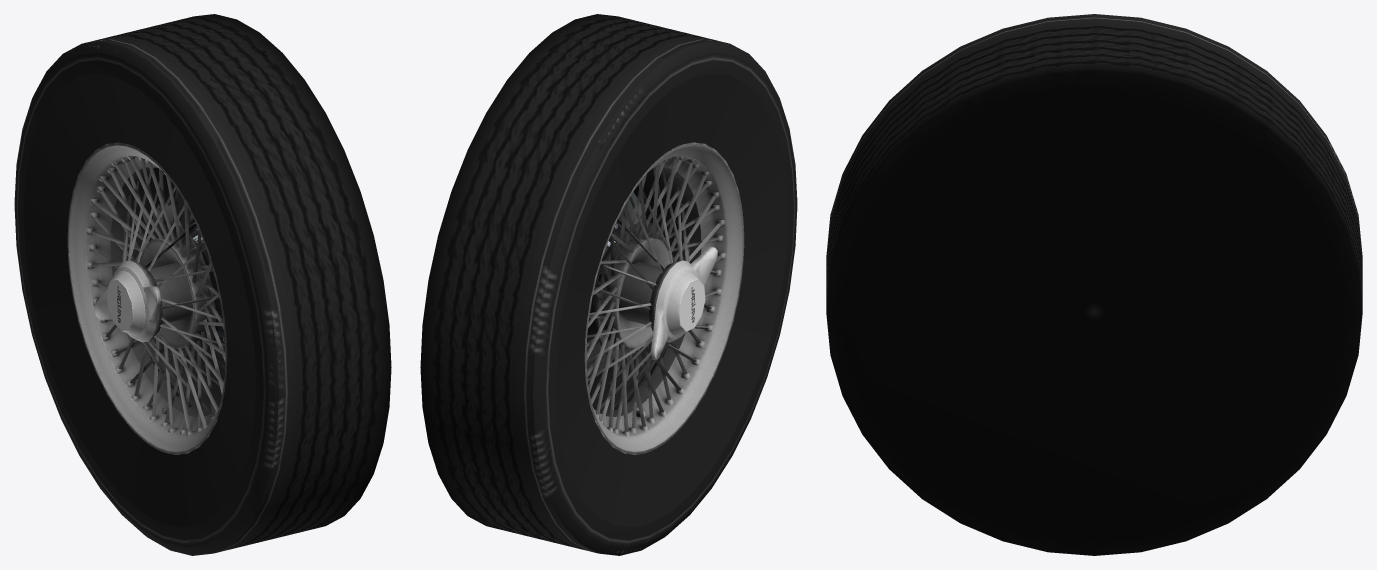
Rendered from jaguar1969.fbx.
3 views of the same model, side by side, from view 1: azimuth 30°, elevation 25°; view 2: azimuth 150°, elevation 25°; view 3: azimuth 270°, elevation 25° (orthographic).
Visible parts, largest first — view 1: Tirerr_garage, Tirerl_garage, Rimrl_garage_vcolor, brake_disk_rl_garage; view 2: Tirerr_garage, Tirerl_garage, Rimrl_garage_vcolor, brake_disk_rl_garage; view 3: Tirerr_garage, Tirerl_garage, Tire_LP_rr_garage, Tire_LP_rl_garage.
Boxes of the visible parts, box(x1,y1,x2,y2) form: Tirerr_garage: box(14, 14, 391, 548); Tirerl_garage: box(14, 44, 391, 555); Rimrl_garage_vcolor: box(67, 142, 227, 454); brake_disk_rl_garage: box(170, 193, 225, 377); Tirerr_garage: box(420, 14, 797, 553); Tirerl_garage: box(420, 52, 797, 555); Rimrl_garage_vcolor: box(584, 142, 744, 454); brake_disk_rl_garage: box(586, 192, 641, 377); Tirerr_garage: box(826, 14, 1362, 555); Tirerl_garage: box(826, 70, 1362, 555); Tire_LP_rr_garage: box(942, 164, 1256, 421); Tire_LP_rl_garage: box(939, 164, 1215, 324).
Size of the model in its own units: 1.04 by 3.29 by 3.29.
